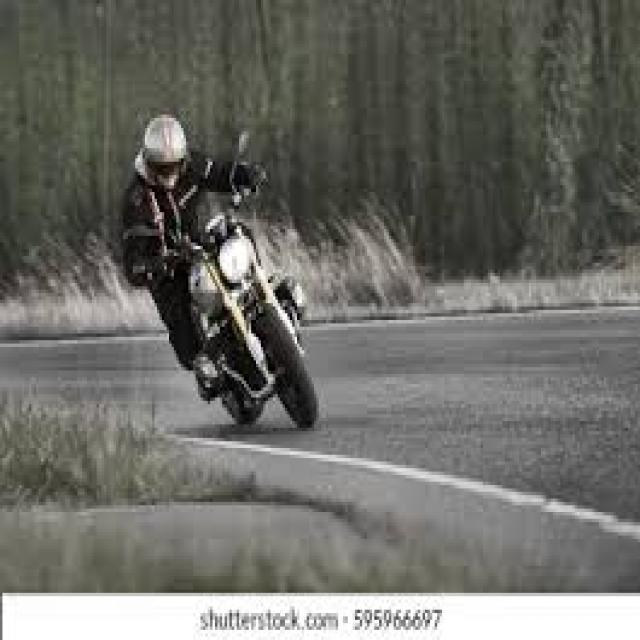Bike: (126, 131, 320, 431)
